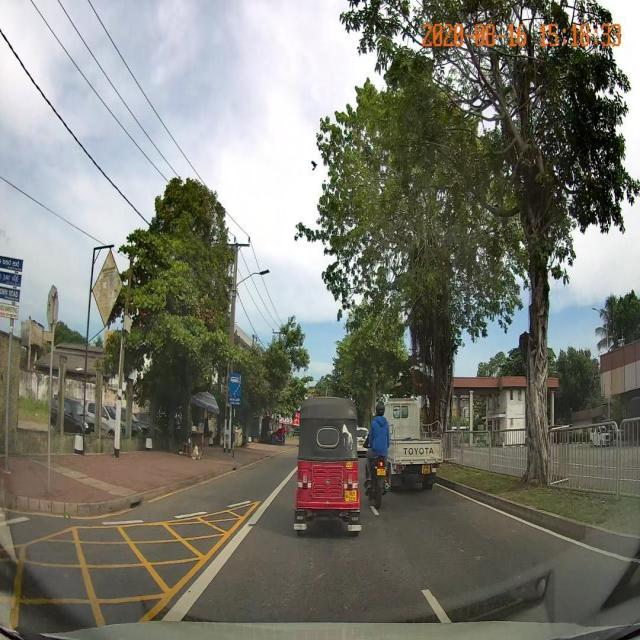Jeltaya razmetka: (2, 496, 267, 632)
Liniya 1: (160, 463, 298, 622), (440, 484, 638, 567), (415, 583, 460, 624), (1, 514, 36, 531), (101, 516, 149, 528), (172, 510, 210, 521), (223, 500, 256, 510), (369, 505, 387, 521)
